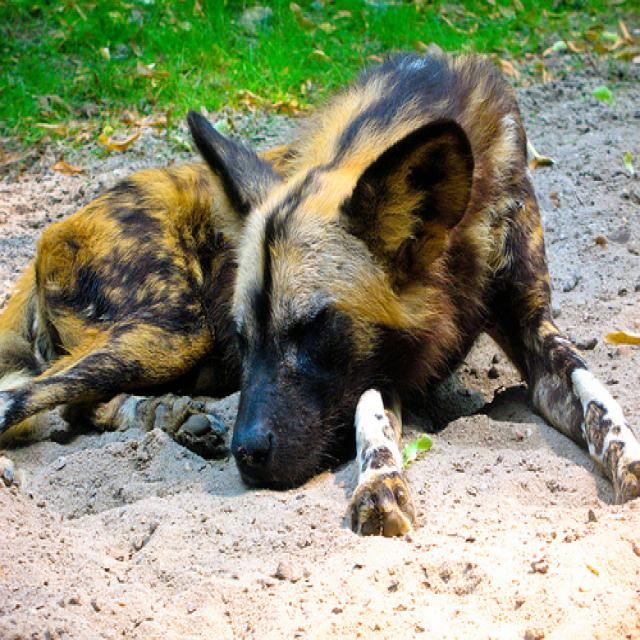dog: (1, 51, 640, 539)
